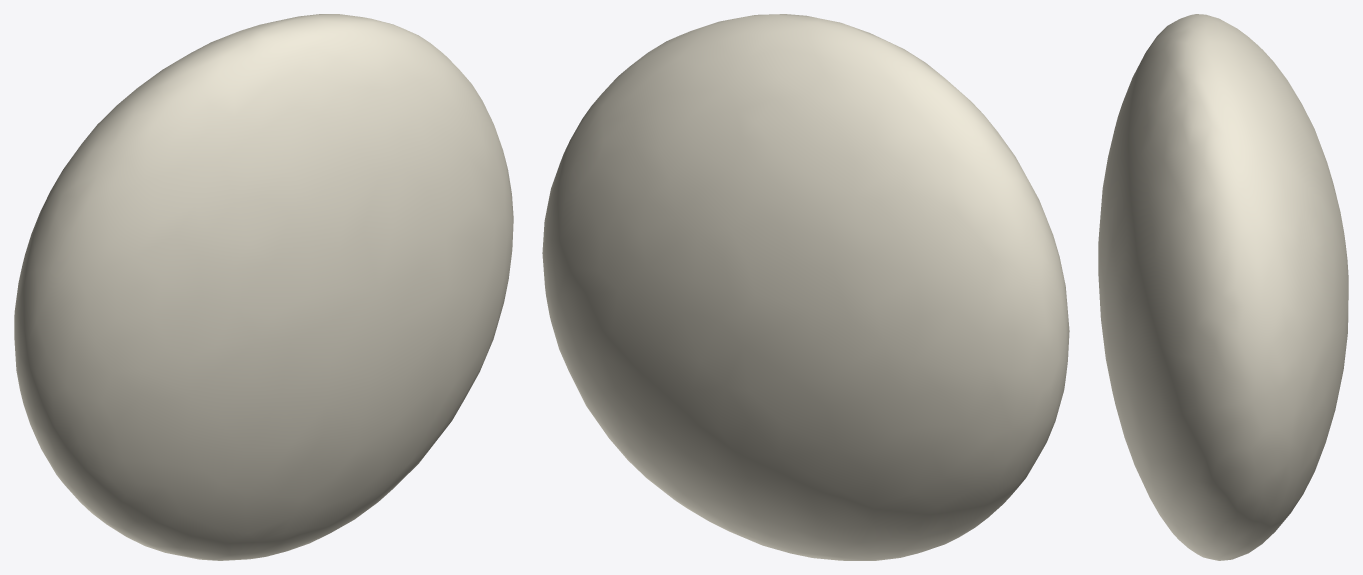
Rendered from fma58243_fj1305.glb.
3 renders of one model, left to right at view 1: azimuth 30°, elevation 25°; view 2: azimuth 150°, elevation 25°; view 3: azimuth 270°, elevation 25°, orthographic. The views are drawn at different scales.
Parts seen in each view (by area): view 1: FMA58243_FJ1305; view 2: FMA58243_FJ1305; view 3: FMA58243_FJ1305.
Boxes of the visible parts, bbox=[...] form: FMA58243_FJ1305: bbox=[14, 14, 513, 560]; FMA58243_FJ1305: bbox=[542, 14, 1069, 560]; FMA58243_FJ1305: bbox=[1098, 14, 1348, 560].
Bounding box in the file's own units: 0.0103 × 0.0104 × 0.00477.
